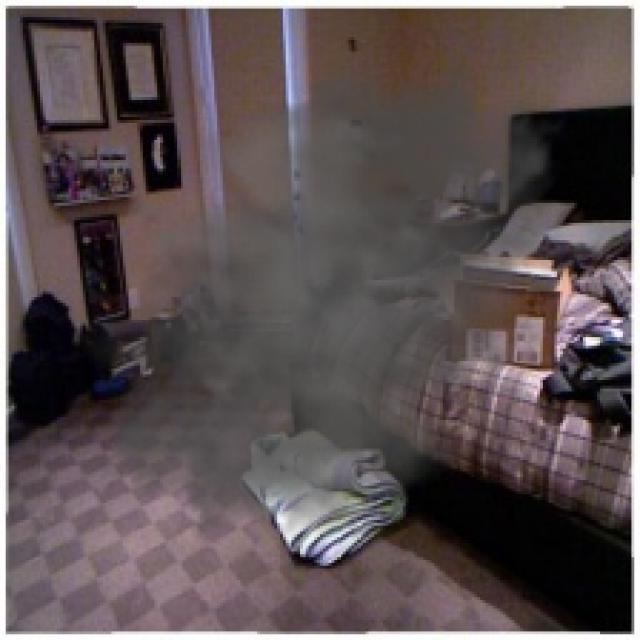Smoke: (71, 22, 592, 578)
